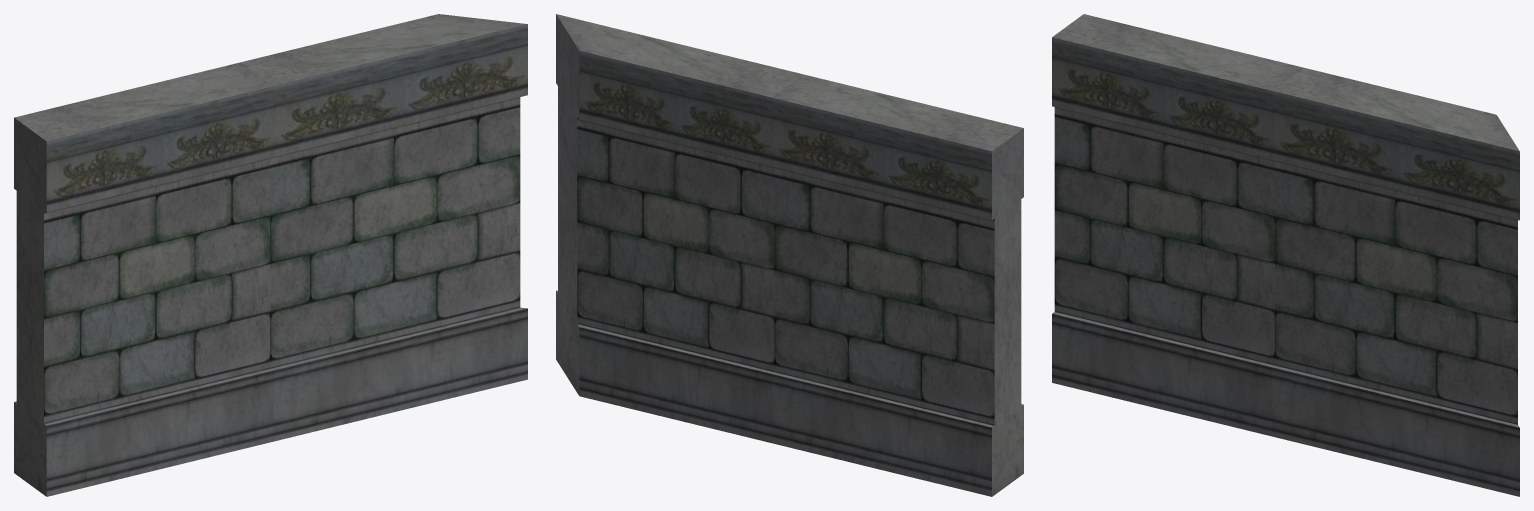
File: wall_large_corner_L_01.glb
3 renders of one model, left to right at view 1: azimuth 30°, elevation 25°; view 2: azimuth 150°, elevation 25°; view 3: azimuth 330°, elevation 25°, orthographic. The views are drawn at different scales.
Visible parts, largest first — view 1: wall_large_corner_L_01; view 2: wall_large_corner_L_01; view 3: wall_large_corner_L_01.
Boxes of the visible parts, x1,y1,x2,y2 form: wall_large_corner_L_01: (14, 14, 527, 496); wall_large_corner_L_01: (556, 14, 1023, 496); wall_large_corner_L_01: (1052, 14, 1519, 496).
Size of the model in its own units: 4.25 by 3 by 0.5.
1 material, 1 textured.
